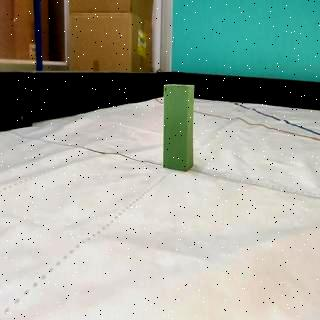greenbox: (162, 84, 194, 172)
